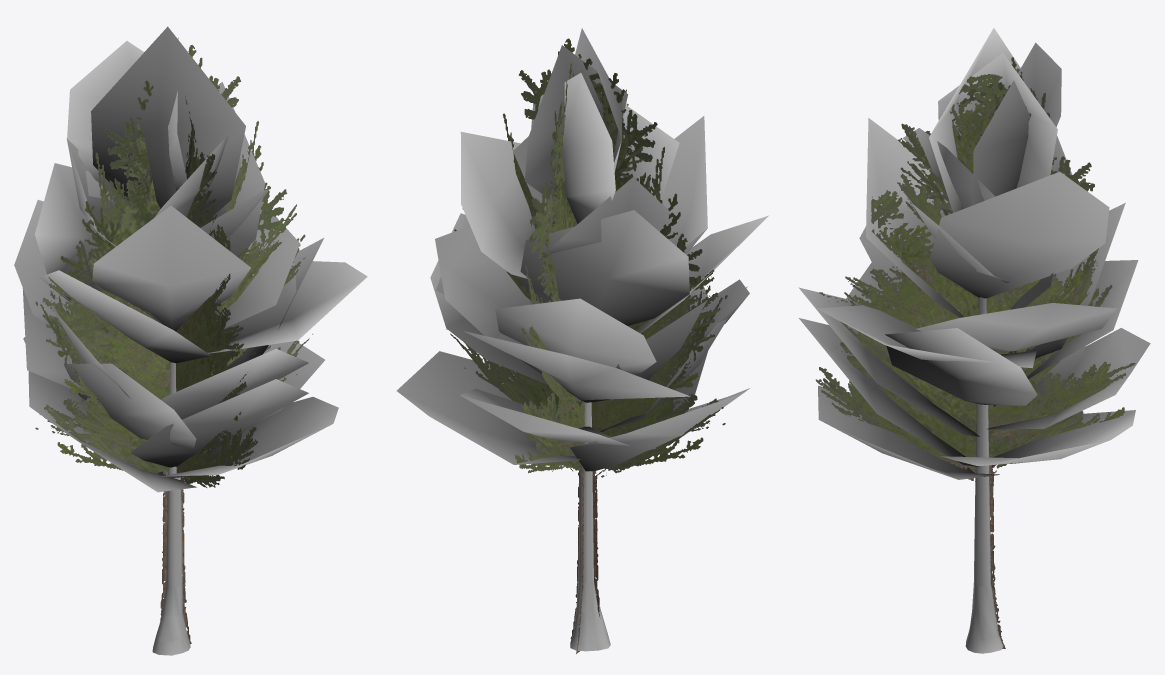
File: Pine_03.fbx
3 views of the same model, side by side, from view 1: azimuth 30°, elevation 25°; view 2: azimuth 150°, elevation 25°; view 3: azimuth 270°, elevation 25° (orthographic).
Visible parts, largest first — view 1: Pine_03_LOD0, Billboard_Pine_03; view 2: Pine_03_LOD0, Billboard_Pine_03; view 3: Pine_03_LOD0, Billboard_Pine_03.
Boxes of the visible parts, bbox=[...] form: Pine_03_LOD0: bbox=[14, 26, 367, 655]; Billboard_Pine_03: bbox=[35, 45, 312, 644]; Pine_03_LOD0: bbox=[396, 28, 768, 651]; Billboard_Pine_03: bbox=[446, 38, 727, 653]; Pine_03_LOD0: bbox=[798, 28, 1150, 653]; Billboard_Pine_03: bbox=[815, 57, 1135, 648].
Size of what is drawn, in the model's own units: 120 by 237 by 122.
